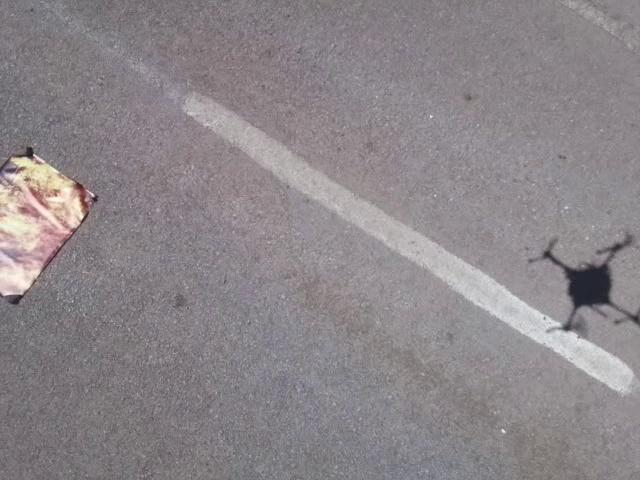fire-poster: (0, 144, 98, 305)
